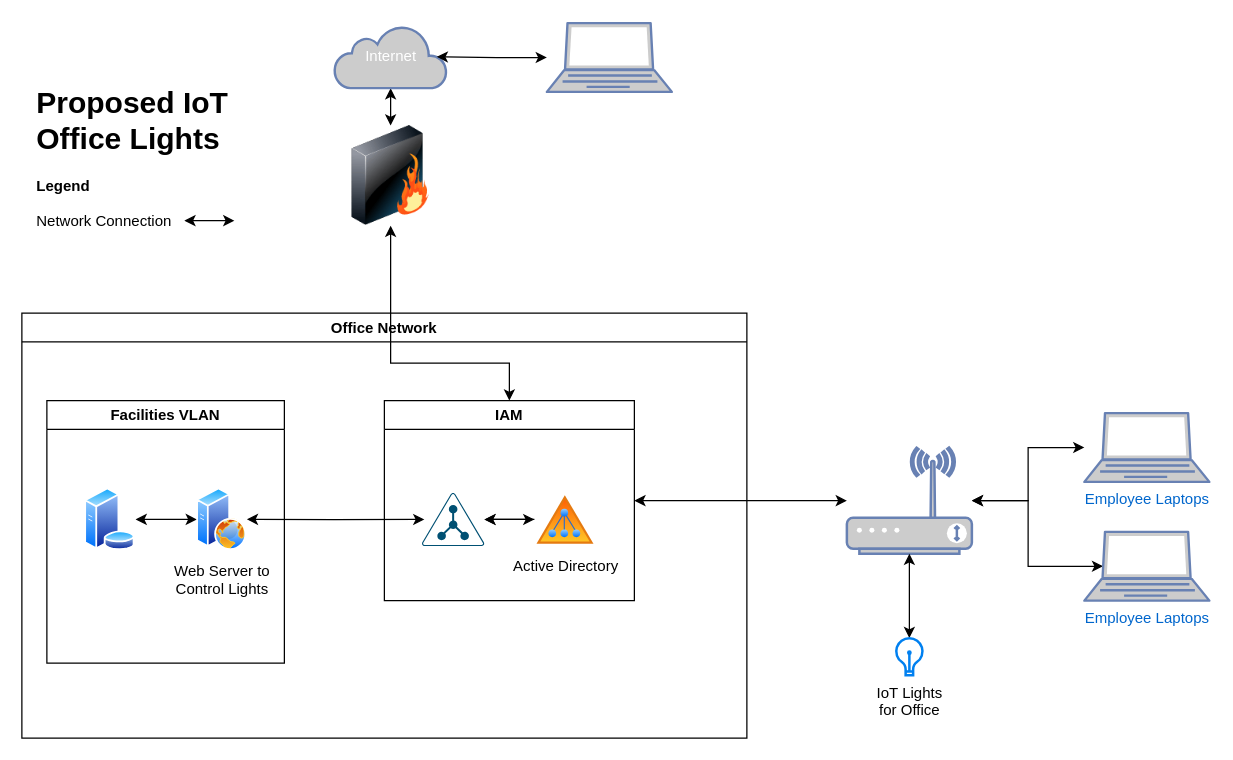
This 1233x760 diagram has some shape labels left out. The shapes that lost their labels are listed below. From the top down, each one's centre as x and y in pixels, then its label:
At point 608,56: "Facilities Laptops".
At point 390,175: "Firewall".
At point 109,519: "Database for Lights System".
At point 452,518: "LDAP".
At point 908,500: "Office WIFI".
